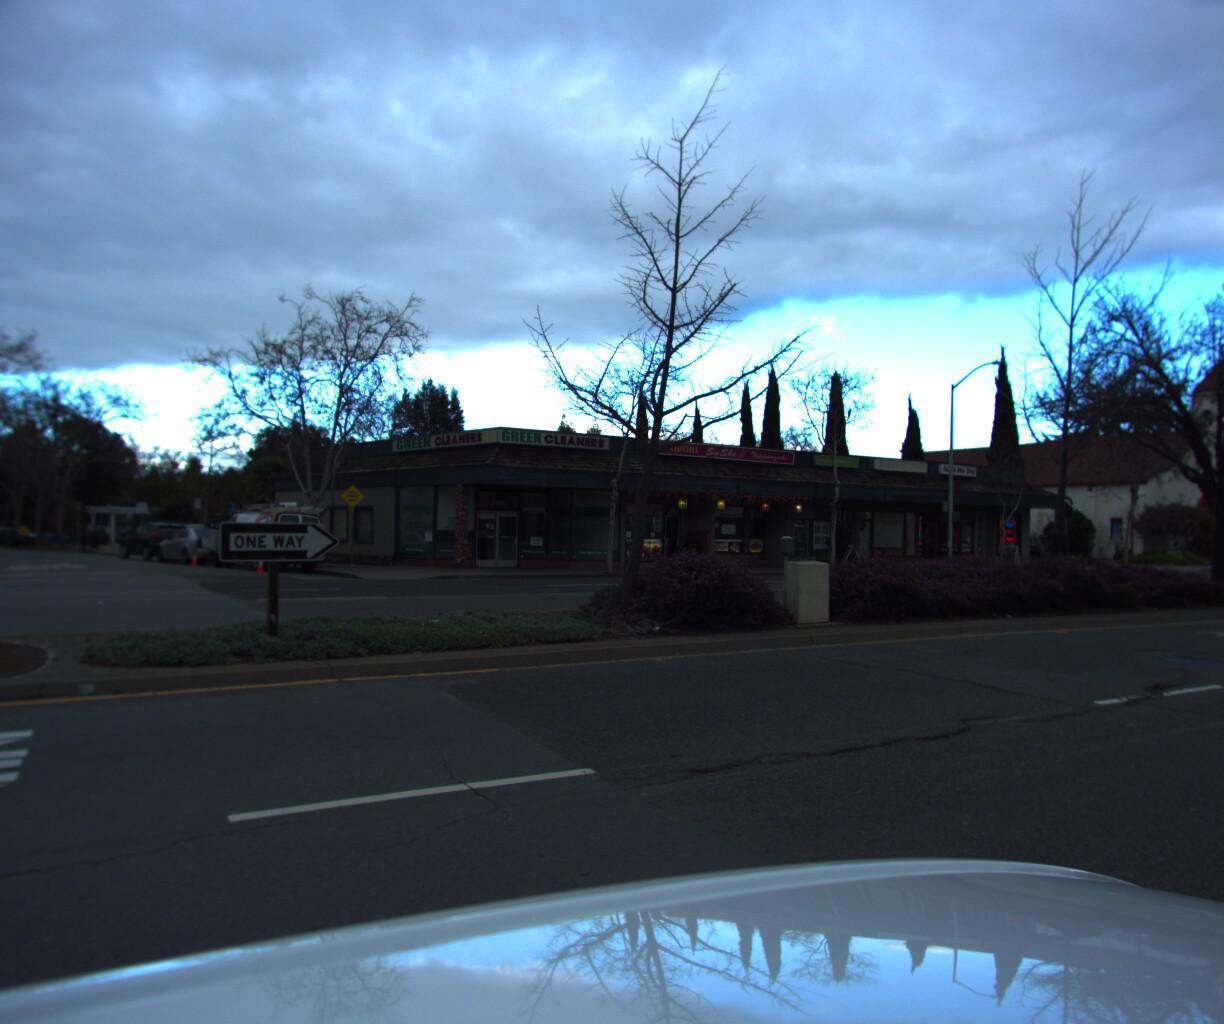car: (200, 497, 339, 577), (152, 525, 253, 571), (119, 520, 206, 564), (0, 520, 33, 546)
